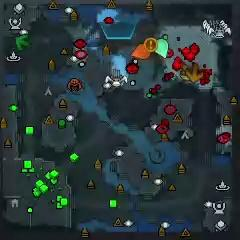p2: (152, 39, 169, 59)
p5: (131, 43, 152, 60)
x2: (182, 62, 193, 82)
x4: (14, 33, 31, 52)
x5: (184, 61, 203, 81)
